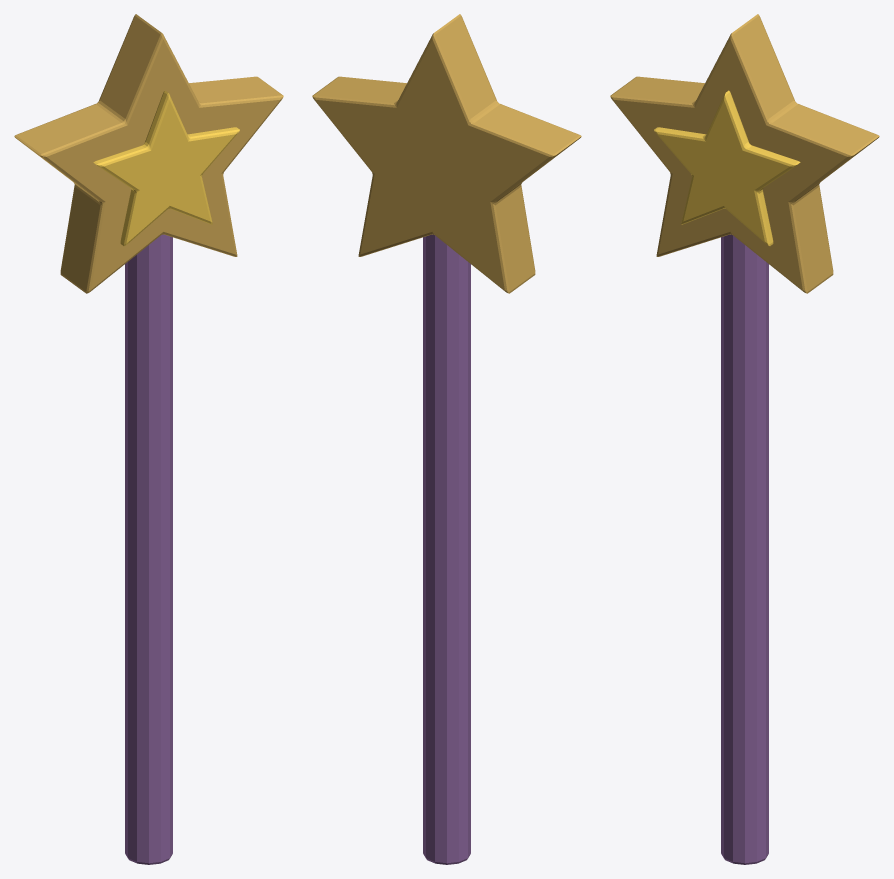
File: P026_star_wand.glb
3 views of the same model, side by side, from view 1: azimuth 30°, elevation 25°; view 2: azimuth 150°, elevation 25°; view 3: azimuth 330°, elevation 25° (orthographic).
Parts seen in each view (by area): view 1: P026_shaft_001, P026_star_002, P026_inner_003; view 2: P026_star_002, P026_shaft_001; view 3: P026_shaft_001, P026_star_002, P026_inner_003.
Part boxes in pixels (x1,y1,x2,y2): P026_shaft_001: (125, 234, 172, 864); P026_star_002: (14, 14, 283, 293); P026_inner_003: (93, 90, 239, 245); P026_star_002: (312, 14, 581, 293); P026_shaft_001: (423, 234, 470, 864); P026_shaft_001: (721, 234, 768, 864); P026_star_002: (610, 14, 879, 293); P026_inner_003: (654, 90, 800, 245).
Size of the model in its own units: 0.1753 by 0.5721 by 0.044.
